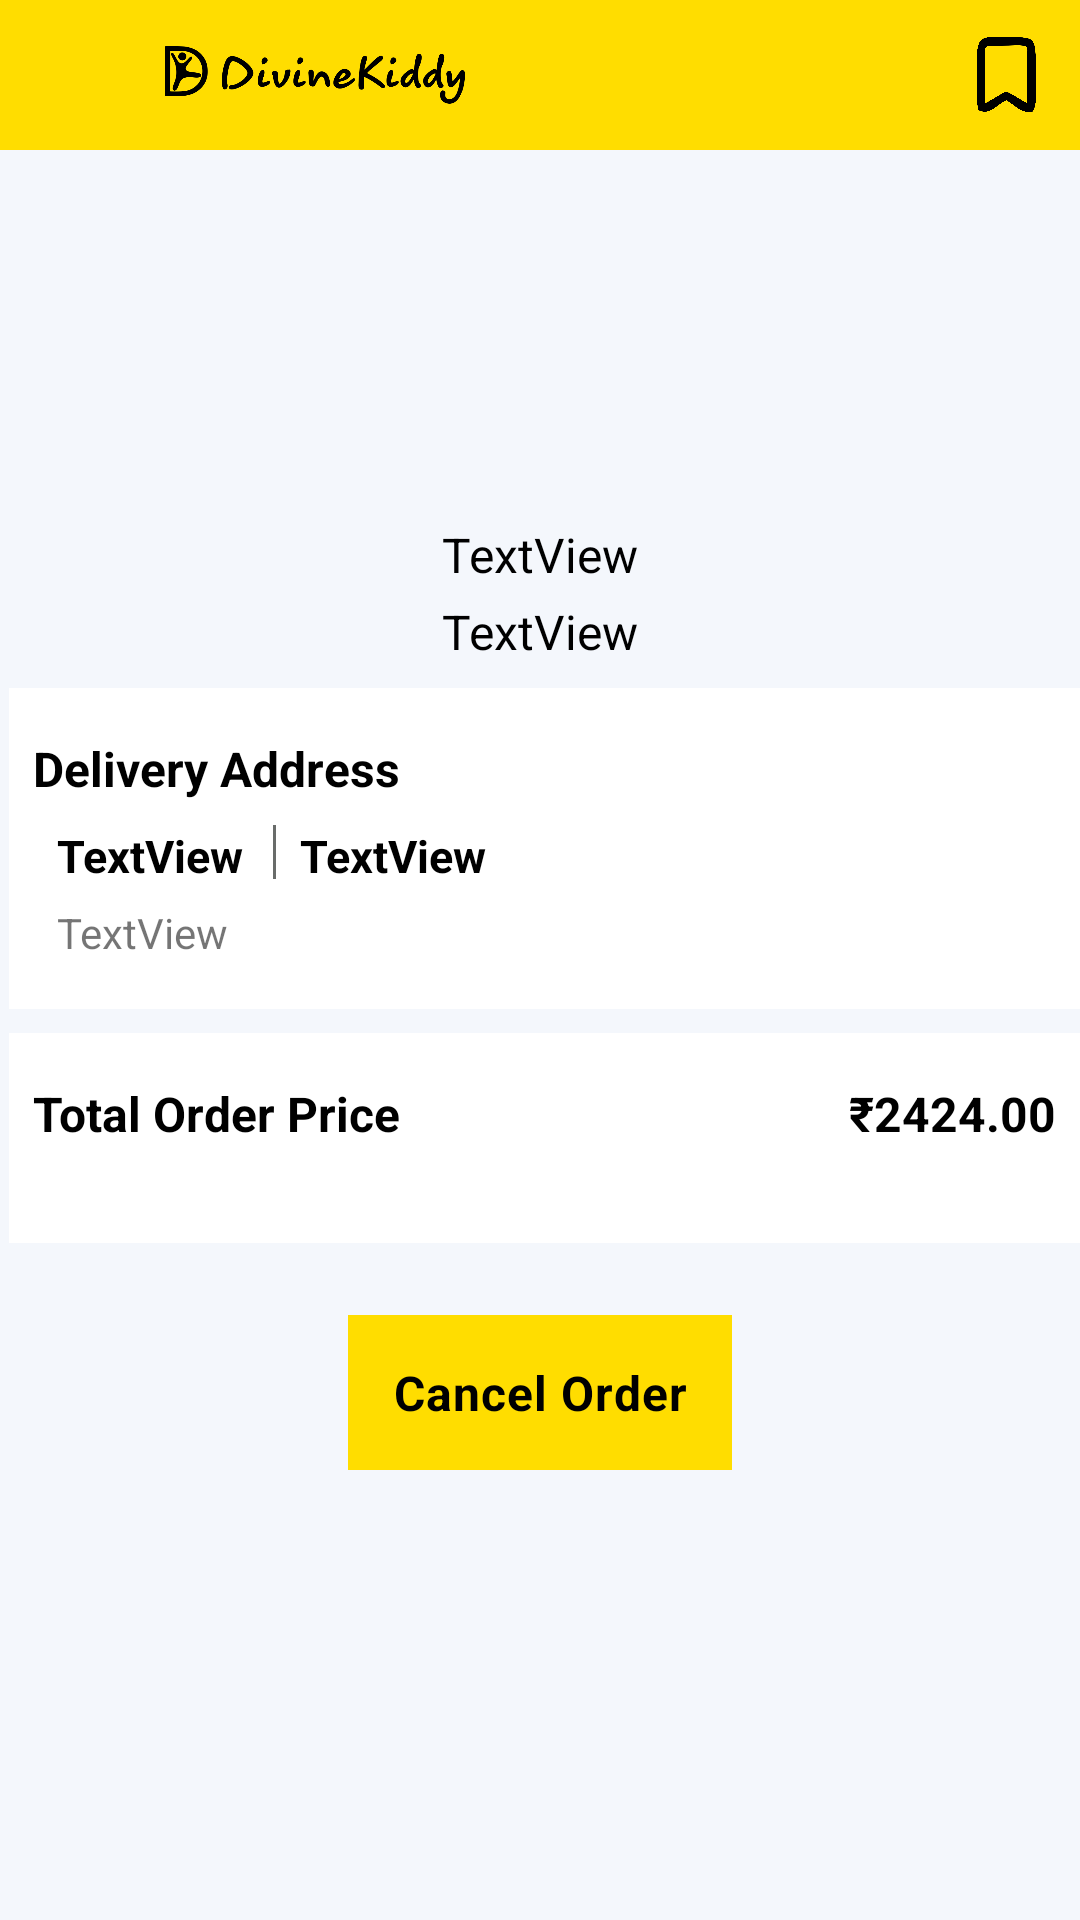

Icons on this 1080 × 1920 Android screen, each with the point to tap as point (x, y):
wishlist menu: point (1006, 74)
